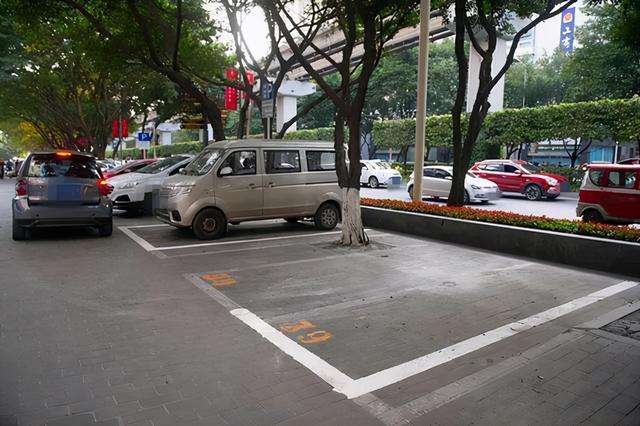slot_nocar: (191, 236, 640, 406)
